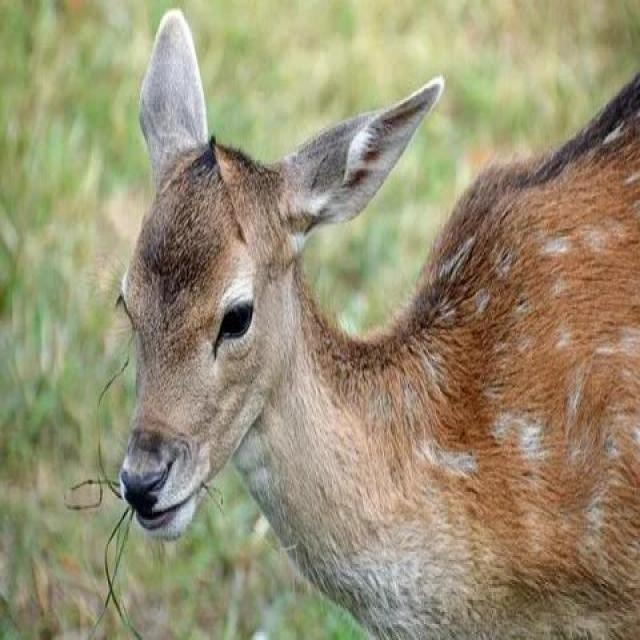deer: (105, 63, 640, 557)
